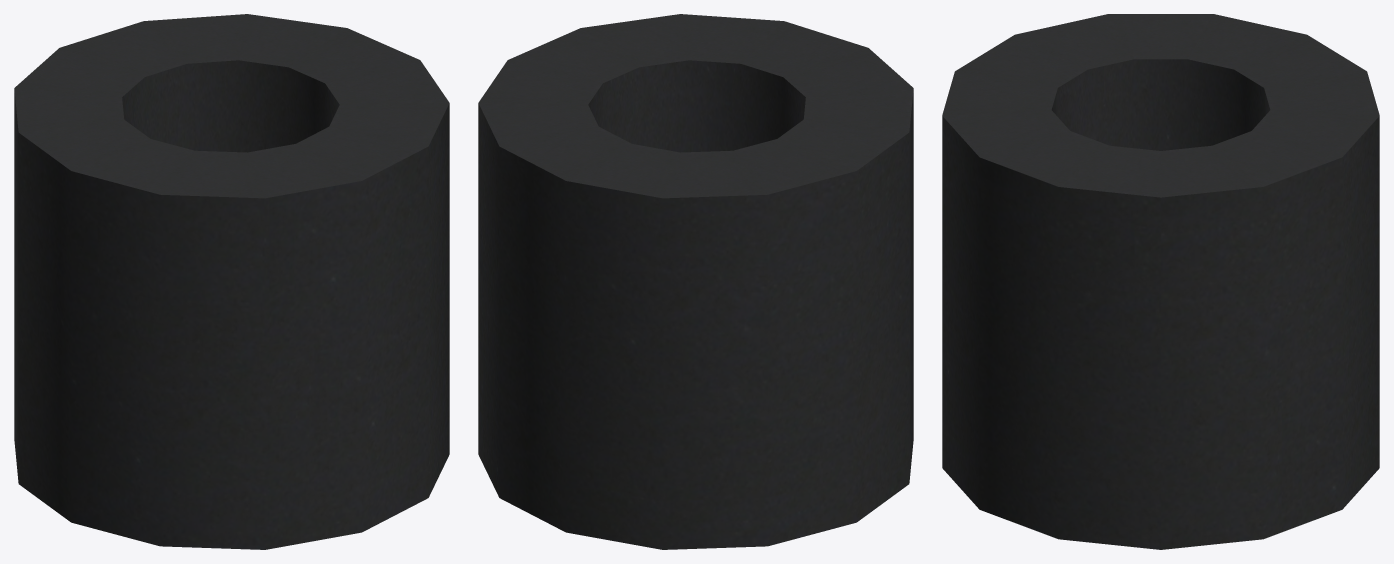
Rendered from Buttstock_Release_Lever_Nut.dae.
3 renders of one model, left to right at view 1: azimuth 30°, elevation 25°; view 2: azimuth 150°, elevation 25°; view 3: azimuth 270°, elevation 25°, orthographic.
Visible parts, largest first — view 1: Buttstock_Release_Lever_Nut; view 2: Buttstock_Release_Lever_Nut; view 3: Buttstock_Release_Lever_Nut.
Part boxes in pixels (x1,y1,x2,y2): Buttstock_Release_Lever_Nut: [14, 14, 449, 549]; Buttstock_Release_Lever_Nut: [478, 14, 913, 549]; Buttstock_Release_Lever_Nut: [942, 14, 1379, 549].
Size of the model in its own units: 0.0105 by 0.0106 by 0.00942.
Materials: 1 (1 with a texture image).
